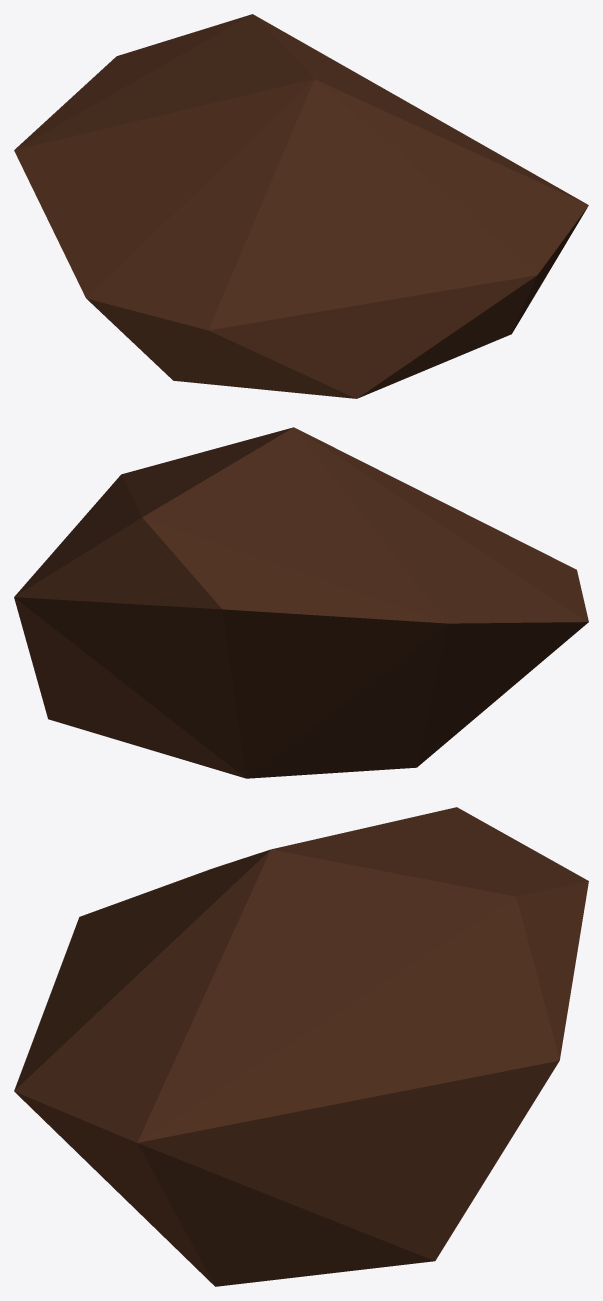
Rendered from Soil 02.fbx.
The picture shows the model from 3 angles, top to bottom: view 1: azimuth 30°, elevation 25°; view 2: azimuth 150°, elevation 25°; view 3: azimuth 270°, elevation 25°; orthographic projection. The views are drawn at different scales.
Parts seen in each view (by area): view 1: Rock 03; view 2: Rock 03; view 3: Rock 03.
Boxes of the visible parts, x1,y1,x2,y2 form: Rock 03: (14, 14, 588, 398); Rock 03: (14, 427, 588, 778); Rock 03: (14, 807, 588, 1286).
Size of the model in its own units: 0.5184 by 0.2946 by 0.4571.
